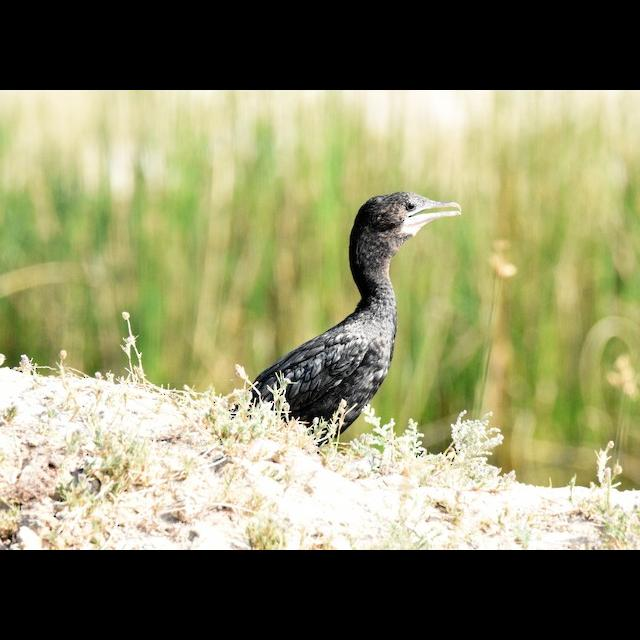cormorant: (229, 189, 463, 439)
